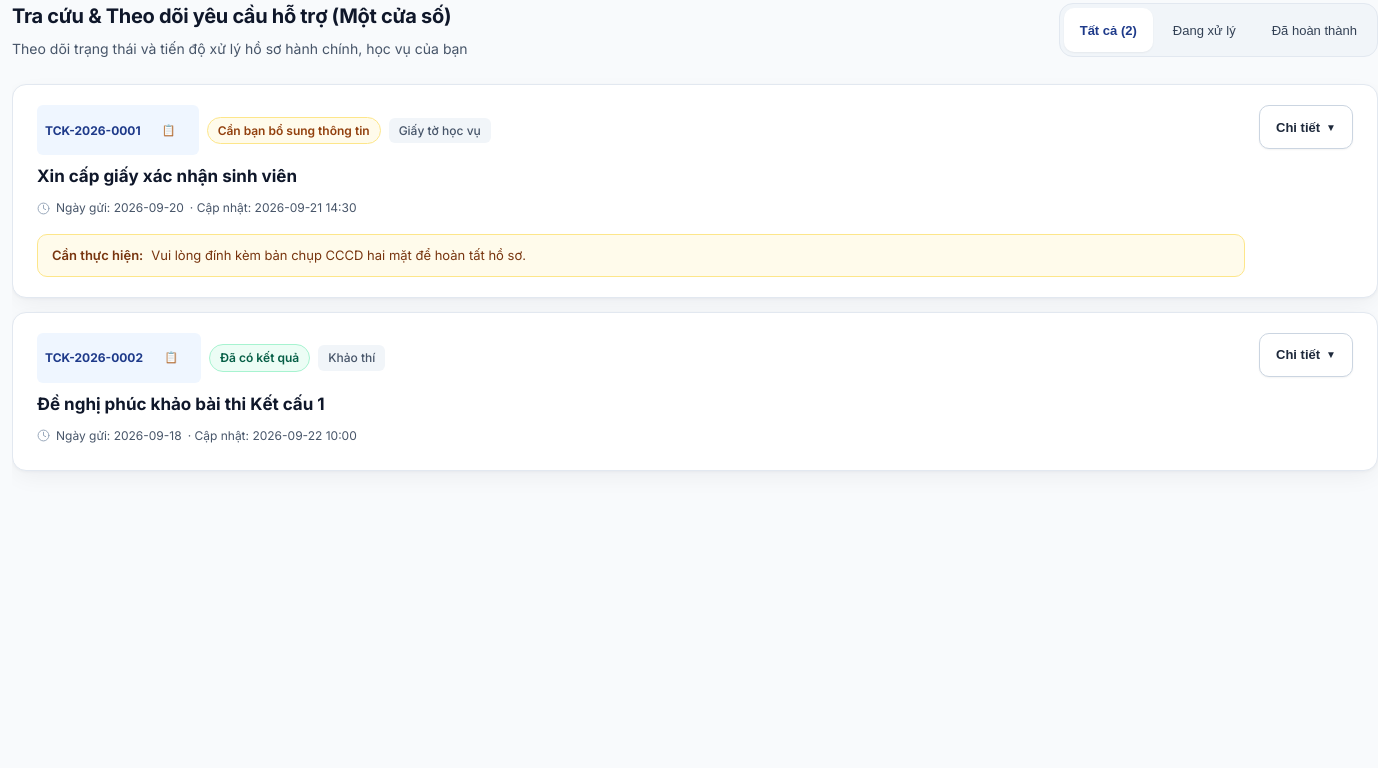
Scenario: TicketList Component (TASK-WEB-TICK-002) › supports copying ticket code with accessible status announcement
What coordinates should you click on to do the following:
click the button named "Sao chép mã TCK-2026-0001"
I would click on:
 (169, 130)
Its box is [147,108,191,152].
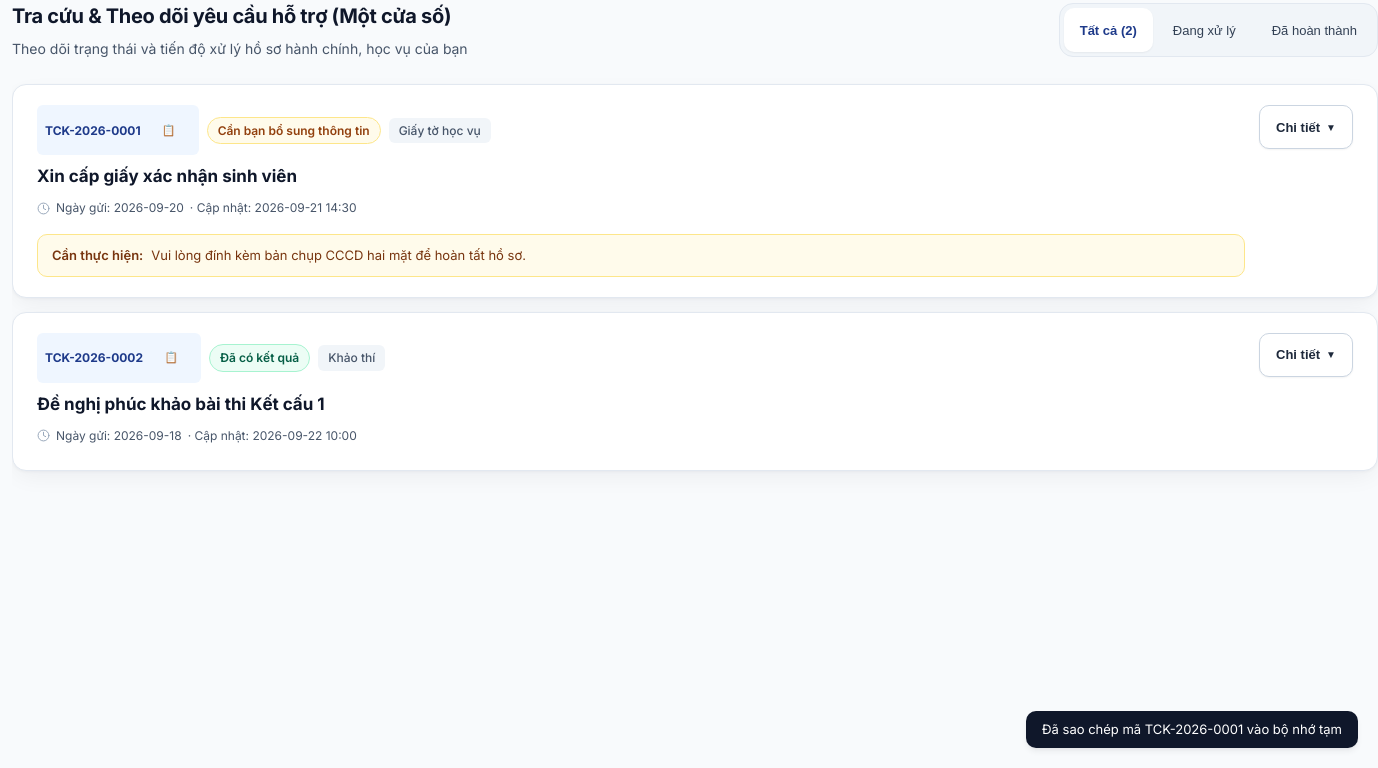
Now the message "Đã sao chép mã TCK-2026-0001 vào bộ nhớ tạm" is shown, box [1026,711,1358,748]
